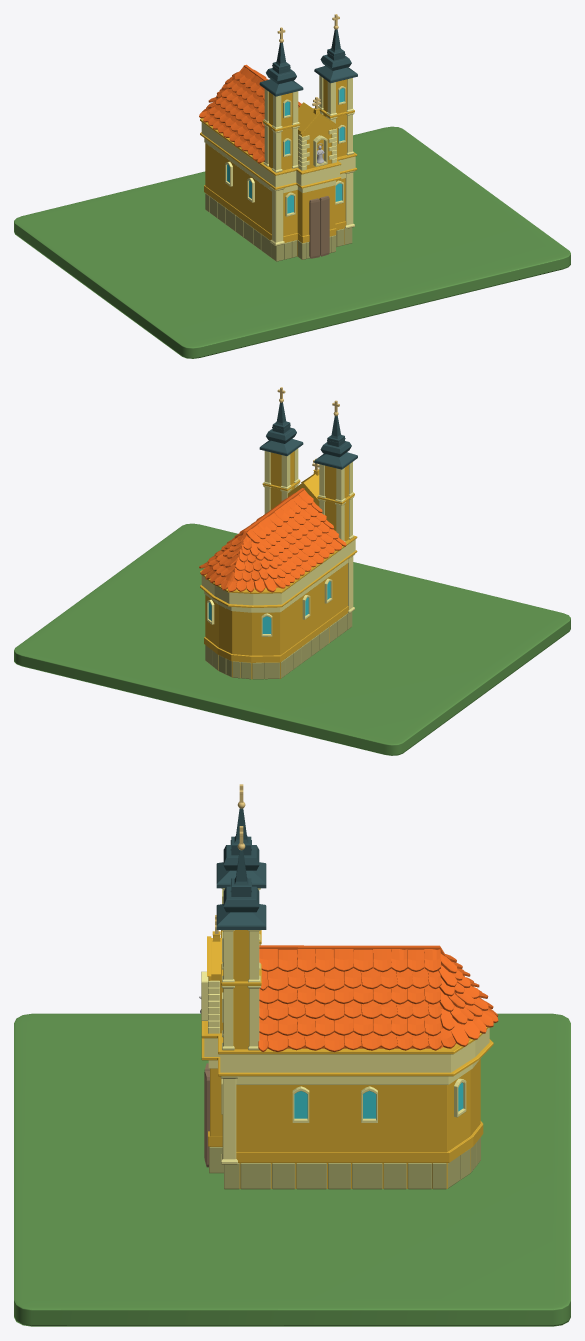
File: church_oneobject.glb
The picture shows the model from 3 angles, top to bottom: view 1: azimuth 30°, elevation 25°; view 2: azimuth 150°, elevation 25°; view 3: azimuth 270°, elevation 25°; orthographic projection. The views are drawn at different scales.
Parts seen in each view (by area): view 1: Cube.051, Cube, Cube.003, Cube.001, Cube.002, Cube.013, Cube.039, Cube.035, Cube.032, Cube.031, Cube.042; view 2: Cube.051, Cube, Cube.003, Cube.001, Cube.034, Cube.033, Cube.037; view 3: Cube.051, Cube, Cube.001, Cube.003, Cube.039, Cube.019, Cube.021, Cube.023, Cube.045, Cube.002, Cube.035, Cube.037 (+1 smaller).
Boxes of the visible parts, box(x1,y1,x2,y2) form: Cube.051: box(14, 126, 570, 358); Cube: box(204, 138, 346, 256); Cube.003: box(259, 29, 357, 170); Cube.001: box(200, 118, 357, 189); Cube.002: box(298, 102, 337, 169); Cube.013: box(309, 196, 329, 258); Cube.039: box(270, 170, 354, 245); Cube.035: box(271, 112, 354, 172); Cube.032: box(292, 81, 336, 125); Cube.031: box(272, 78, 353, 129); Cube.042: box(285, 180, 343, 216); Cube.051: box(14, 523, 570, 755); Cube: box(204, 558, 348, 679); Cube.003: box(259, 402, 357, 541); Cube.001: box(200, 535, 357, 607); Cube.034: box(280, 454, 325, 498); Cube.033: box(263, 451, 345, 502); Cube.037: box(263, 485, 345, 542); Cube.051: box(14, 1013, 570, 1326); Cube: box(208, 1058, 483, 1188); Cube.001: box(201, 1021, 493, 1076); Cube.003: box(216, 808, 266, 1049); Cube.039: box(220, 1076, 238, 1164); Cube.019: box(240, 1163, 271, 1189); Cube.021: box(296, 1163, 326, 1189); Cube.023: box(352, 1163, 382, 1189); Cube.045: box(259, 945, 445, 956); Cube.002: box(207, 936, 223, 1033); Cube.035: box(221, 986, 234, 1050); Cube.037: box(247, 986, 260, 1050).
Size of the model in its own units: 34.98 by 20.64 by 27.89.
